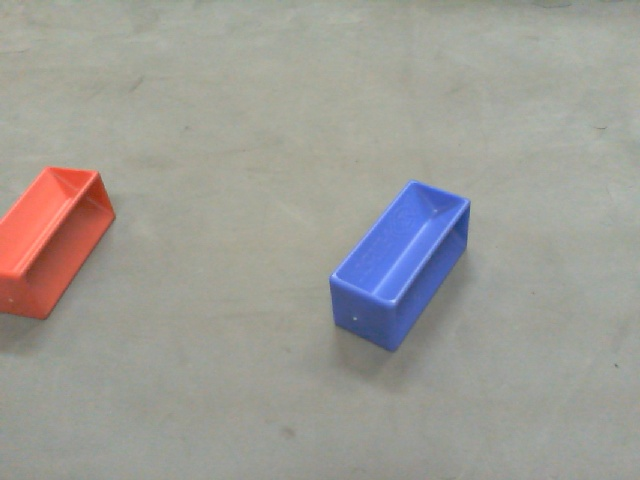BlueSample: (324, 179, 475, 353)
RedSample: (1, 164, 119, 322)
